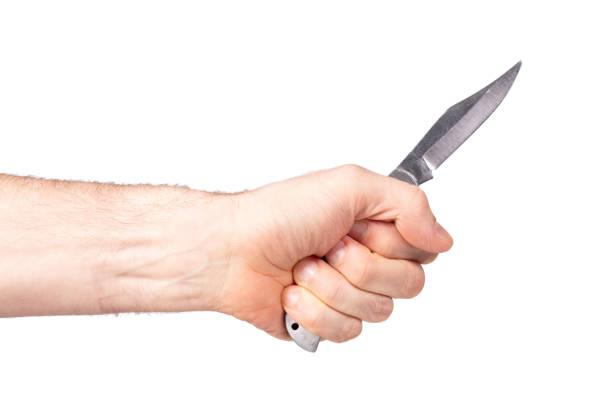knife: (282, 61, 522, 353)
